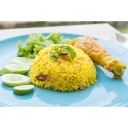briyani: (33, 41, 124, 92)
